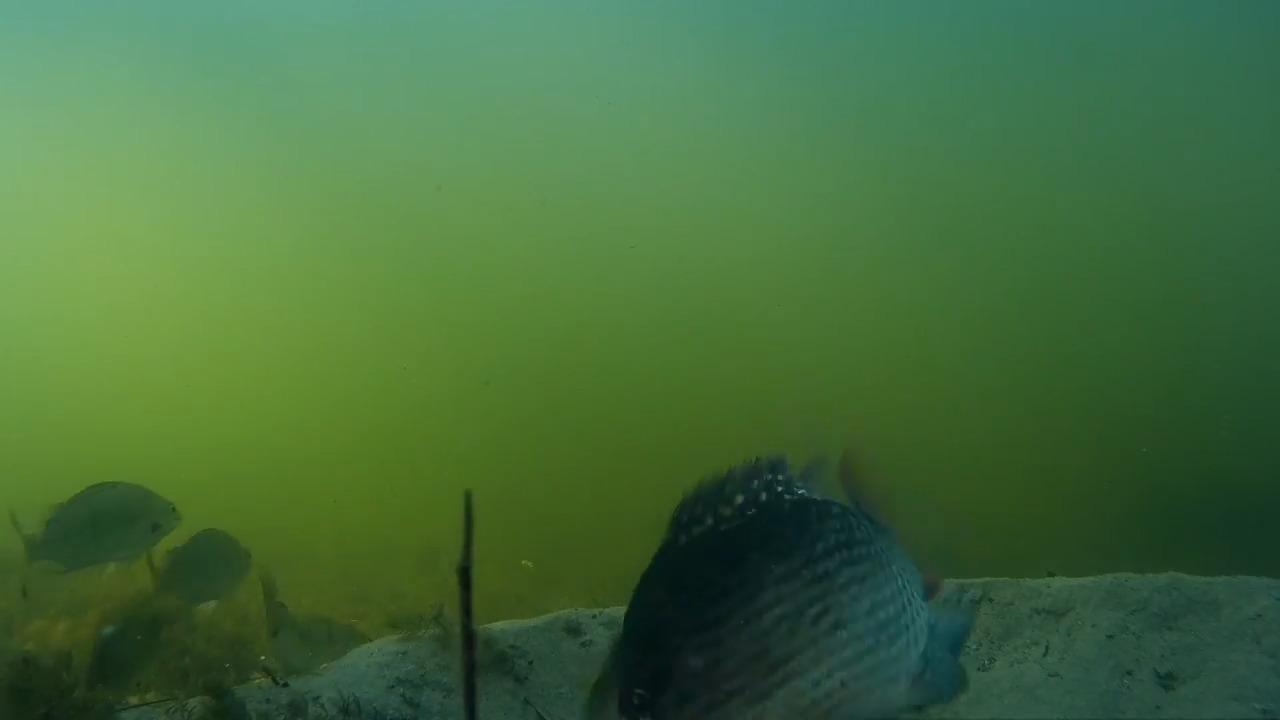Tilapia: (564, 445, 966, 720), (18, 473, 216, 590), (252, 606, 369, 674), (160, 520, 251, 600)
